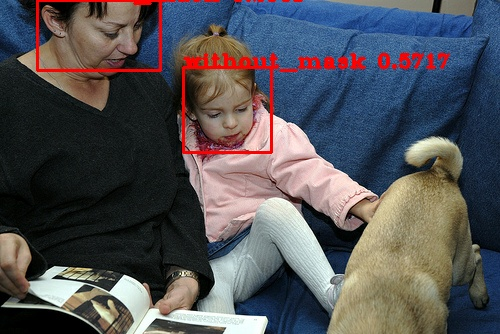without_mask: (33, 1, 165, 95), (172, 36, 275, 155)
